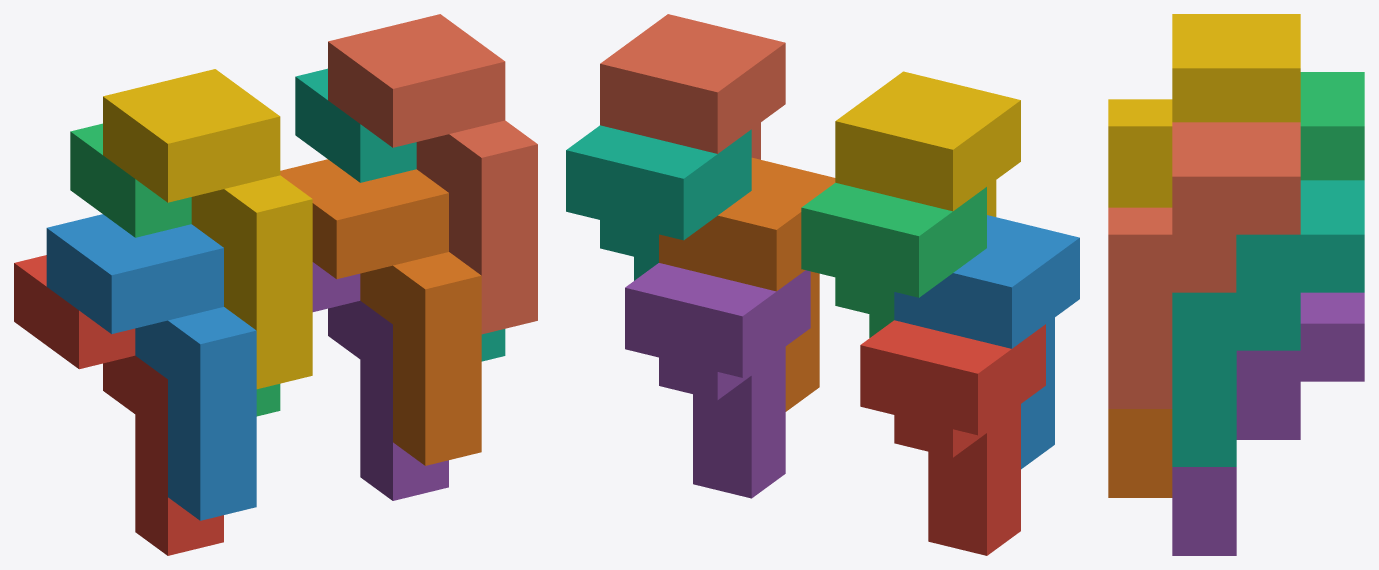
File: tiling.obj
The picture shows the model from 3 angles, left to right: view 1: azimuth 30°, elevation 25°; view 2: azimuth 150°, elevation 25°; view 3: azimuth 270°, elevation 25°; orthographic projection. The views are drawn at different scales.
Parts seen in each view (by area): view 1: copy_1_domain_2, copy_1_domain_4, copy_1_domain_8, copy_1_domain_6, copy_1_domain_1, copy_1_domain_5, copy_1_domain_3, copy_1_domain_7; view 2: copy_1_domain_1, copy_1_domain_5, copy_1_domain_4, copy_1_domain_8, copy_1_domain_3, copy_1_domain_7, copy_1_domain_2, copy_1_domain_6; view 3: copy_1_domain_8, copy_1_domain_7, copy_1_domain_4, copy_1_domain_5, copy_1_domain_3, copy_1_domain_6.
Part boxes in pixels (x1,y1,x2,y2): copy_1_domain_2: [46, 214, 256, 520]; copy_1_domain_4: [103, 69, 312, 389]; copy_1_domain_8: [328, 14, 537, 334]; copy_1_domain_6: [280, 159, 481, 465]; copy_1_domain_1: [14, 255, 223, 555]; copy_1_domain_5: [312, 262, 448, 500]; copy_1_domain_3: [70, 123, 280, 416]; copy_1_domain_7: [295, 68, 505, 361]; copy_1_domain_1: [860, 320, 1045, 555]; copy_1_domain_5: [625, 263, 810, 498]; copy_1_domain_4: [835, 71, 1020, 216]; copy_1_domain_8: [600, 14, 785, 159]; copy_1_domain_3: [801, 182, 986, 337]; copy_1_domain_7: [566, 125, 751, 280]; copy_1_domain_2: [894, 215, 1079, 469]; copy_1_domain_6: [659, 157, 835, 411]; copy_1_domain_8: [1108, 122, 1300, 408]; copy_1_domain_7: [1172, 180, 1364, 466]; copy_1_domain_4: [1108, 14, 1300, 207]; copy_1_domain_5: [1172, 292, 1364, 555]; copy_1_domain_3: [1300, 72, 1364, 180]; copy_1_domain_6: [1108, 409, 1172, 497].
Bounding box in the file's own units: 7 × 7 × 4.
